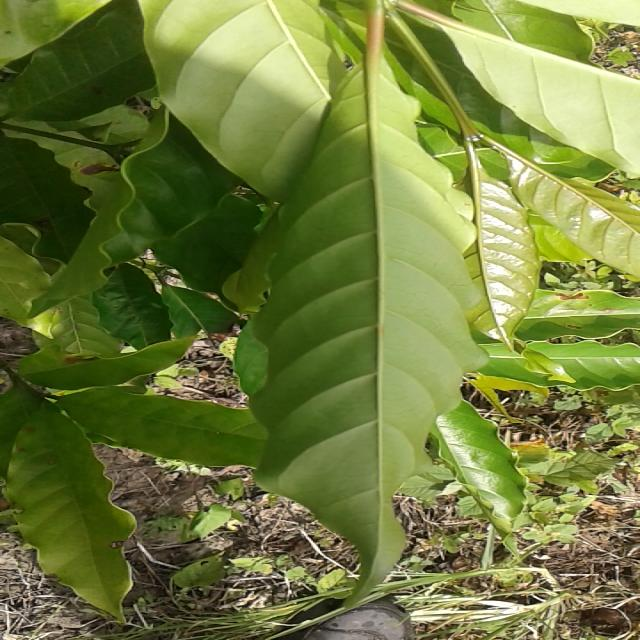Sanas: (221, 52, 497, 612)
